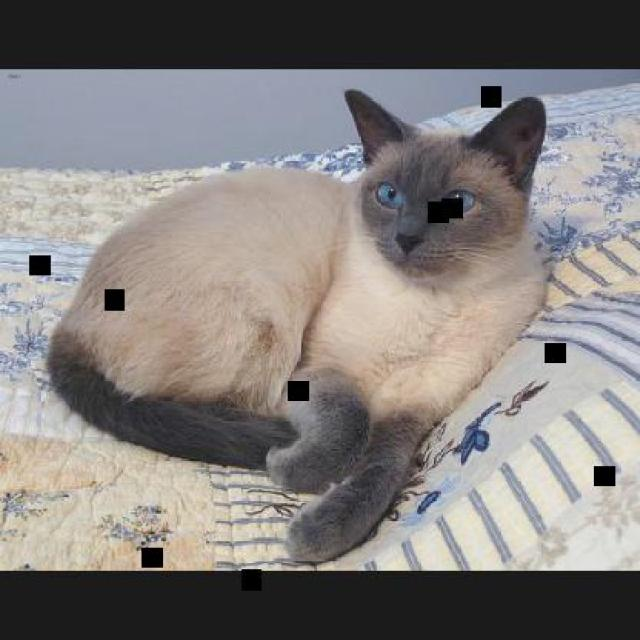unauthorized: (44, 86, 550, 563)
